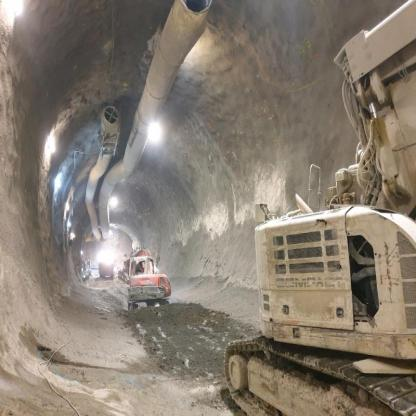excavator: (218, 10, 415, 415), (113, 238, 183, 313)
